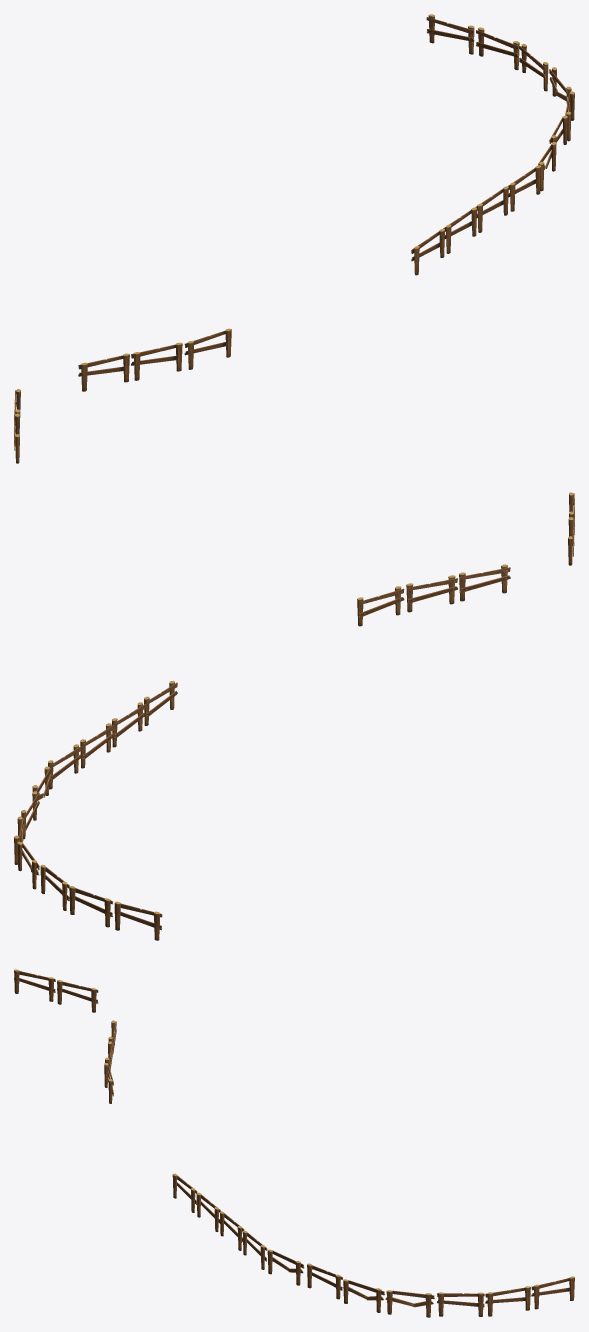
File: Area_10_6.fbx
3 views of the same model, one above another, from view 1: azimuth 30°, elevation 25°; view 2: azimuth 210°, elevation 25°; view 3: azimuth 270°, elevation 25° (orthographic). The views are drawn at different scales.
Parts seen in each view (by area): view 1: Area_10_6; view 2: Area_10_6; view 3: Area_10_6.
Part boxes in pixels (box(x1,y1,x2,y2)): Area_10_6: box(14, 14, 574, 463); Area_10_6: box(14, 492, 574, 940); Area_10_6: box(14, 969, 574, 1317).
Size of the model in its own units: 4226 by 147 by 3069.
